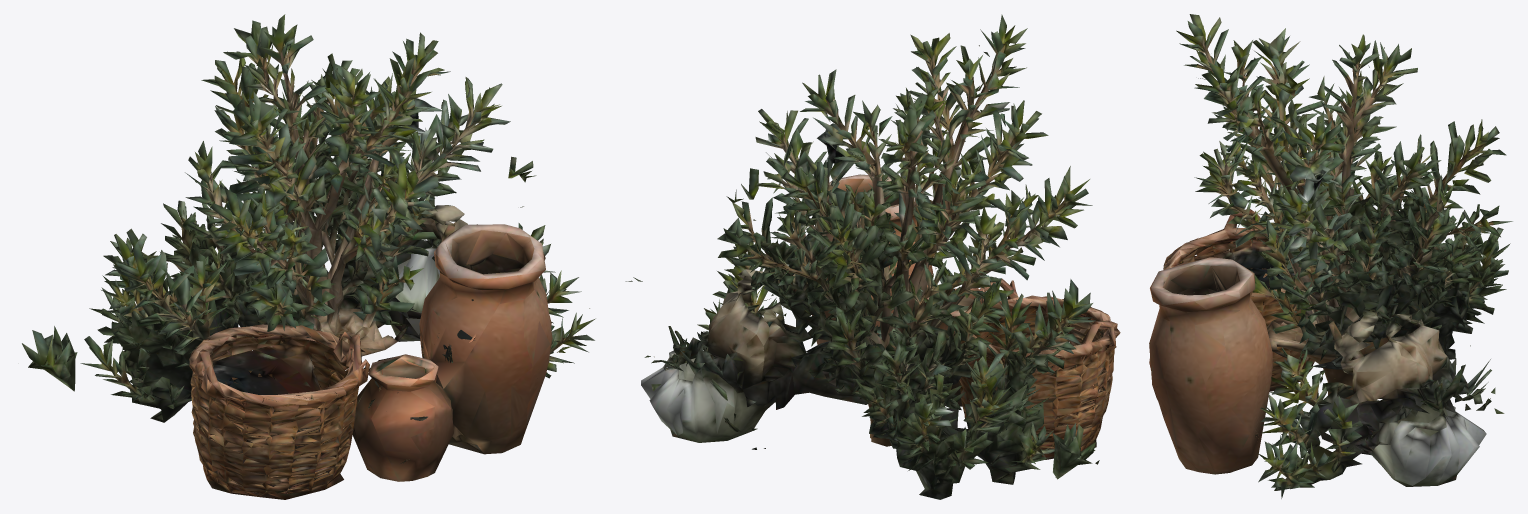
File: olive-basket-cluster-a.glb
3 renders of one model, left to right at view 1: azimuth 30°, elevation 25°; view 2: azimuth 150°, elevation 25°; view 3: azimuth 270°, elevation 25°, orthographic. The views are drawn at different scales.
Parts seen in each view (by area): view 1: geometry_0; view 2: geometry_0; view 3: geometry_0.
Boxes of the visible parts, left/top/right/bottom form: geometry_0: left=22, top=14, right=595, bottom=499; geometry_0: left=625, top=14, right=1120, bottom=499; geometry_0: left=1149, top=14, right=1512, bottom=498.
Size of the model in its own units: 1.91 by 1.5 by 1.3.
1 material, 1 textured.
